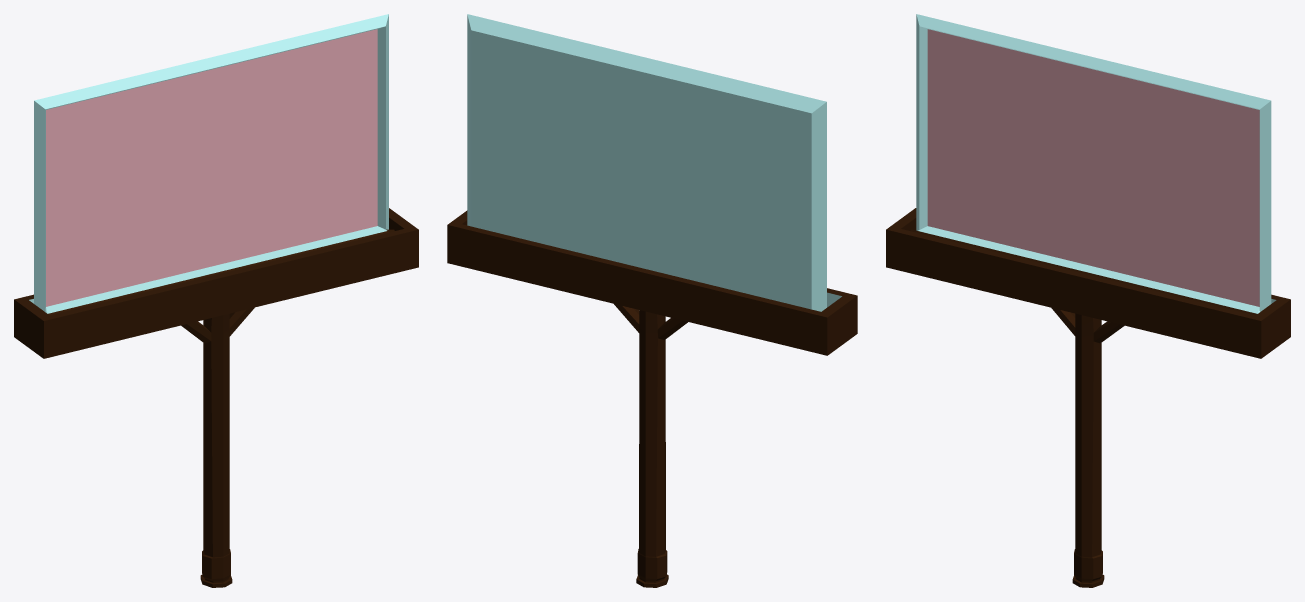
The model's file is Billboardi.fbx.
3 renders of one model, left to right at view 1: azimuth 30°, elevation 25°; view 2: azimuth 150°, elevation 25°; view 3: azimuth 330°, elevation 25°, orthographic.
Visible parts, largest first — view 1: Billboardi; view 2: Billboardi; view 3: Billboardi.
Boxes of the visible parts, left/top/right/bottom form: Billboardi: left=14, top=14, right=418, bottom=587; Billboardi: left=447, top=14, right=857, bottom=587; Billboardi: left=886, top=14, right=1290, bottom=587.
Size of the model in its own units: 11.98 by 15.88 by 1.64.
